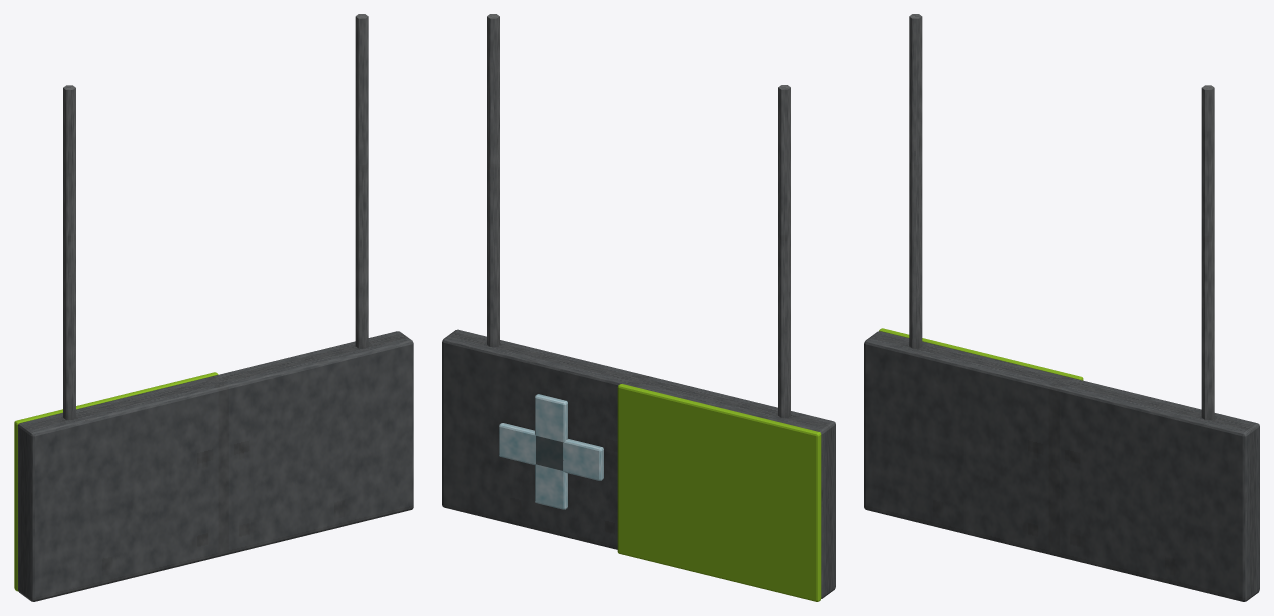
The model's file is base_hanging_sign_medical.glb.
The picture shows the model from 3 angles, left to right: view 1: azimuth 30°, elevation 25°; view 2: azimuth 150°, elevation 25°; view 3: azimuth 330°, elevation 25°; orthographic projection.
Visible parts, largest first — view 1: base_hanging_sign_medical; view 2: base_hanging_sign_medical; view 3: base_hanging_sign_medical.
Boxes of the visible parts, x1,y1,x2,y2 form: base_hanging_sign_medical: (14,14,413,601); base_hanging_sign_medical: (442,14,835,601); base_hanging_sign_medical: (864,14,1259,601).
Size of the model in its own units: 1.7 by 2.12 by 0.145.
3 materials, 3 textured.
